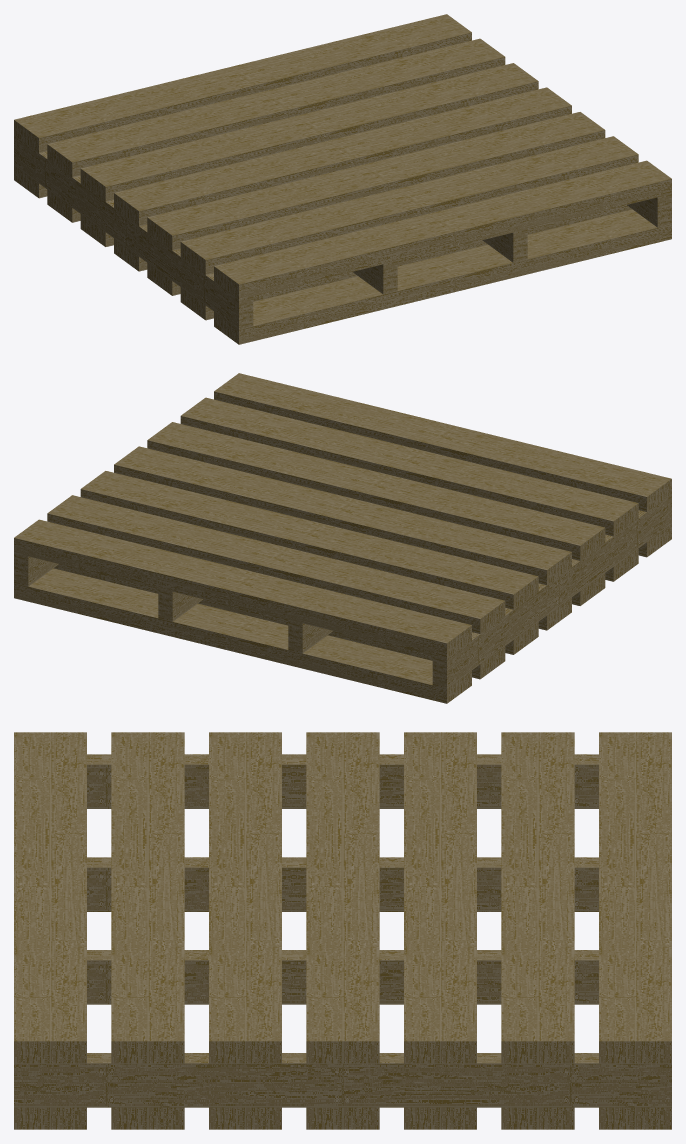
Rendered from WoodenPallet.glb.
3 views of the same model, one above another, from view 1: azimuth 30°, elevation 25°; view 2: azimuth 150°, elevation 25°; view 3: azimuth 270°, elevation 25° (orthographic). The views are drawn at different scales.
Visible parts, largest first — view 1: Cube.007; view 2: Cube.007; view 3: Cube.007.
Part boxes in pixels (x1,y1,x2,y2): Cube.007: (14, 14, 671, 344); Cube.007: (14, 373, 671, 703); Cube.007: (14, 732, 671, 1129).
Bounding box in the file's own units: 1.5 × 0.2 × 1.35.
1 material, 1 textured.
